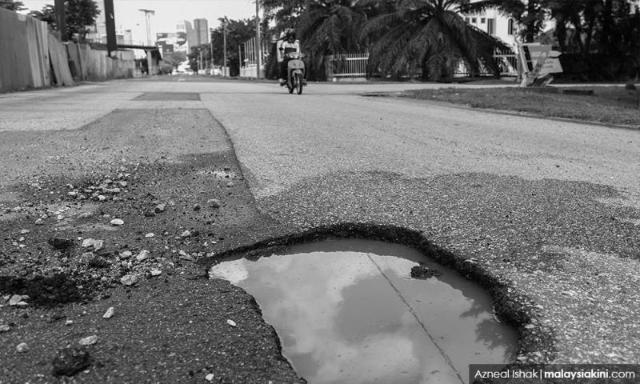Pothole: (198, 216, 530, 384)
